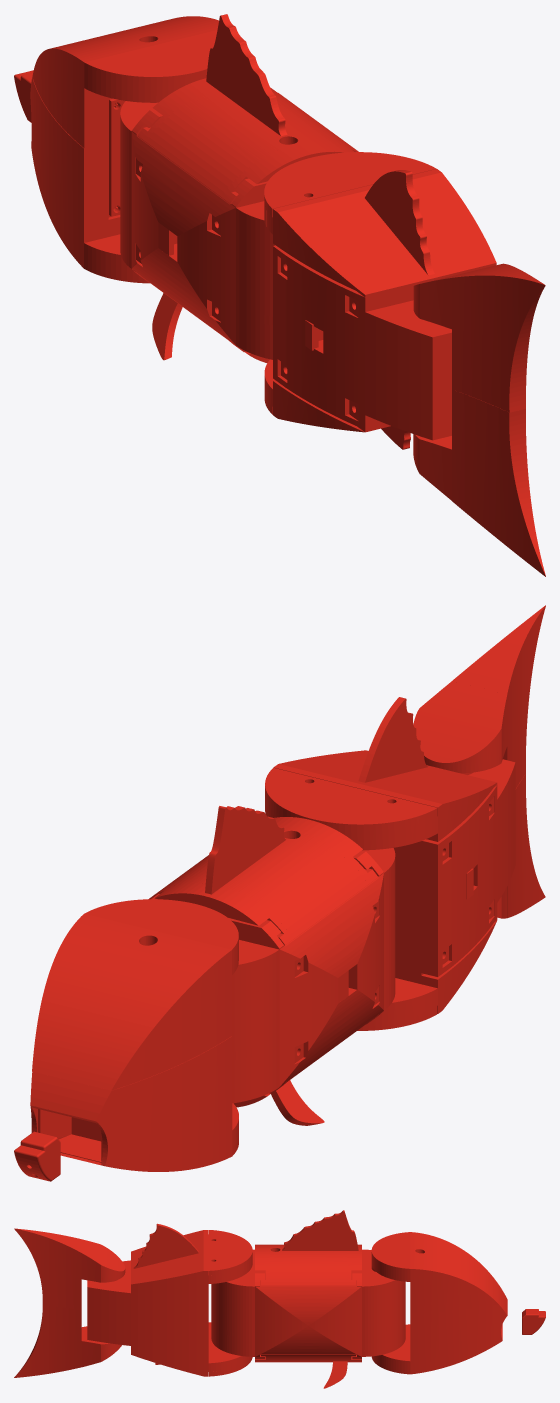
3 views of the same model, one above another, from view 1: azimuth 30°, elevation 25°; view 2: azimuth 150°, elevation 25°; view 3: azimuth 270°, elevation 25° (orthographic). The views are drawn at different scales.
Parts seen in each view (by area): view 1: プロトタイプ２全体 v10; view 2: プロトタイプ２全体 v10; view 3: プロトタイプ２全体 v10.
Part boxes in pixels (box(x1,y1,x2,y2)): プロトタイプ２全体 v10: box(14, 14, 545, 576); プロトタイプ２全体 v10: box(14, 605, 545, 1181); プロトタイプ２全体 v10: box(14, 1210, 545, 1388).
Bounding box in the file's own units: 110 × 190 × 548.
